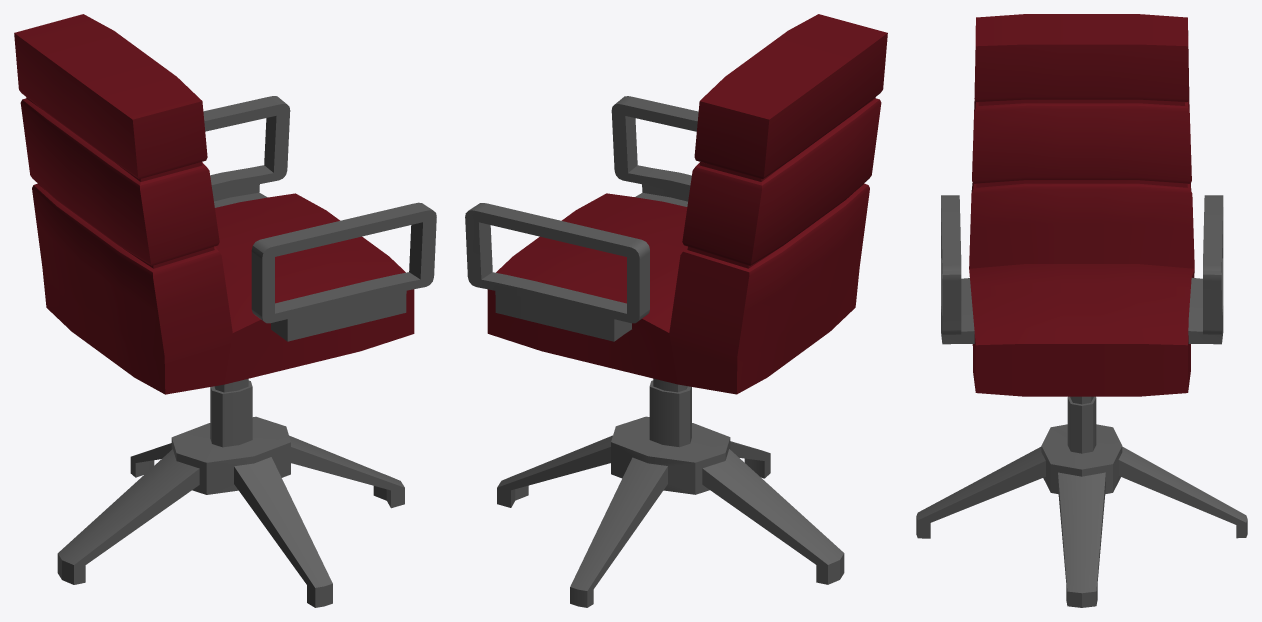
Rendered from boss chair.fbx.
The picture shows the model from 3 angles, left to right: view 1: azimuth 30°, elevation 25°; view 2: azimuth 150°, elevation 25°; view 3: azimuth 270°, elevation 25°; orthographic projection. The views are drawn at different scales.
Visible parts, largest first — view 1: bosschair; view 2: bosschair; view 3: bosschair.
Boxes of the visible parts, x1,y1,x2,y2 form: bosschair: [14, 14, 436, 607]; bosschair: [465, 14, 887, 607]; bosschair: [916, 14, 1247, 607].
Bounding box in the file's own units: 643 × 917 × 609.
